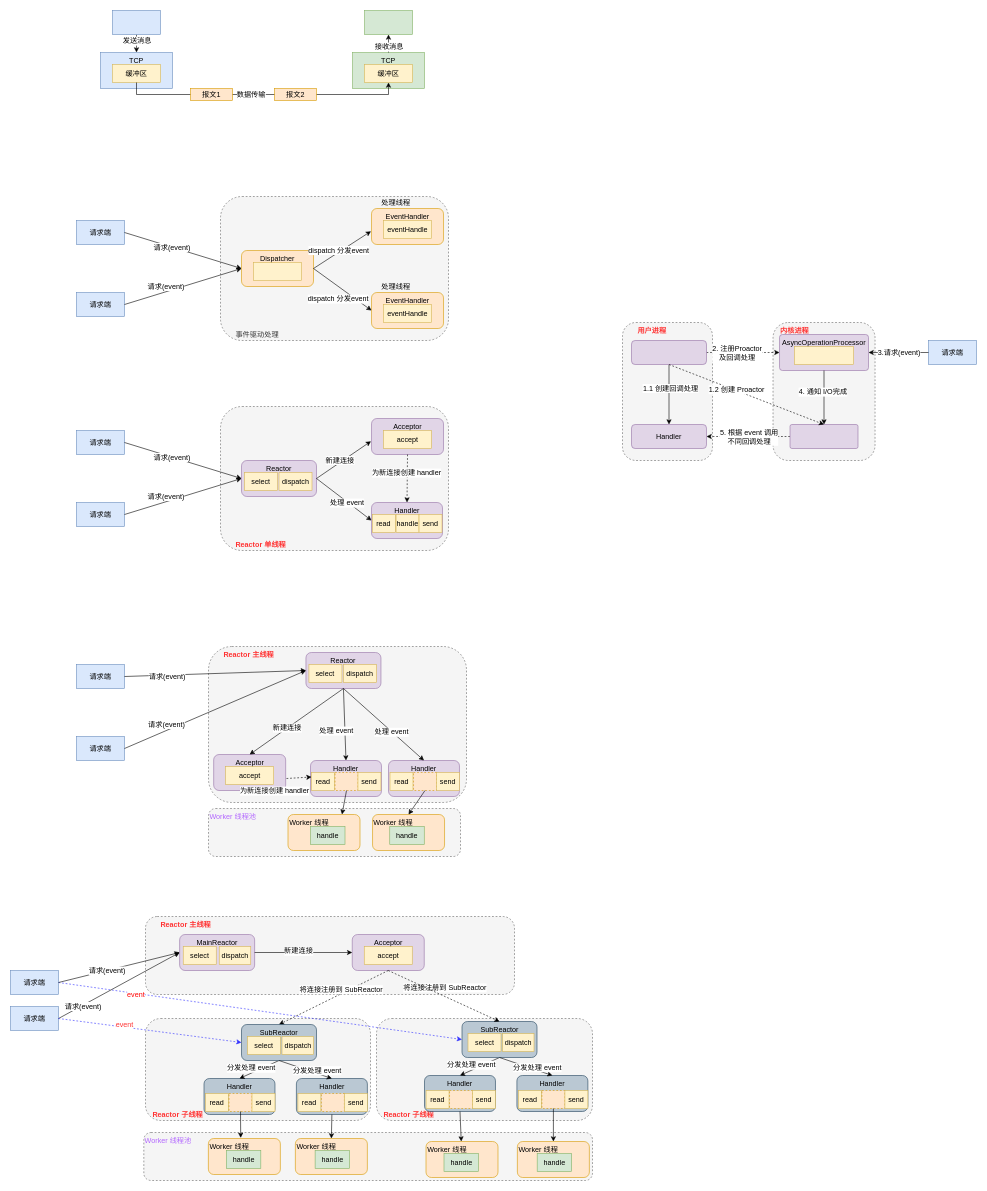
The diagram is 987 pixels wide and 1191 high, and some of its shapes have lost their labels. The shapes that lost their labels are listed below. From the top down, each one's centre as x and y in pixels, then its label:
point 136,22: 发送端
point 388,22: 接收端
point 277,271: eventDispatch
point 668,352: Proactor Initiator
point 824,355: async I/O
point 823,436: Proactor
